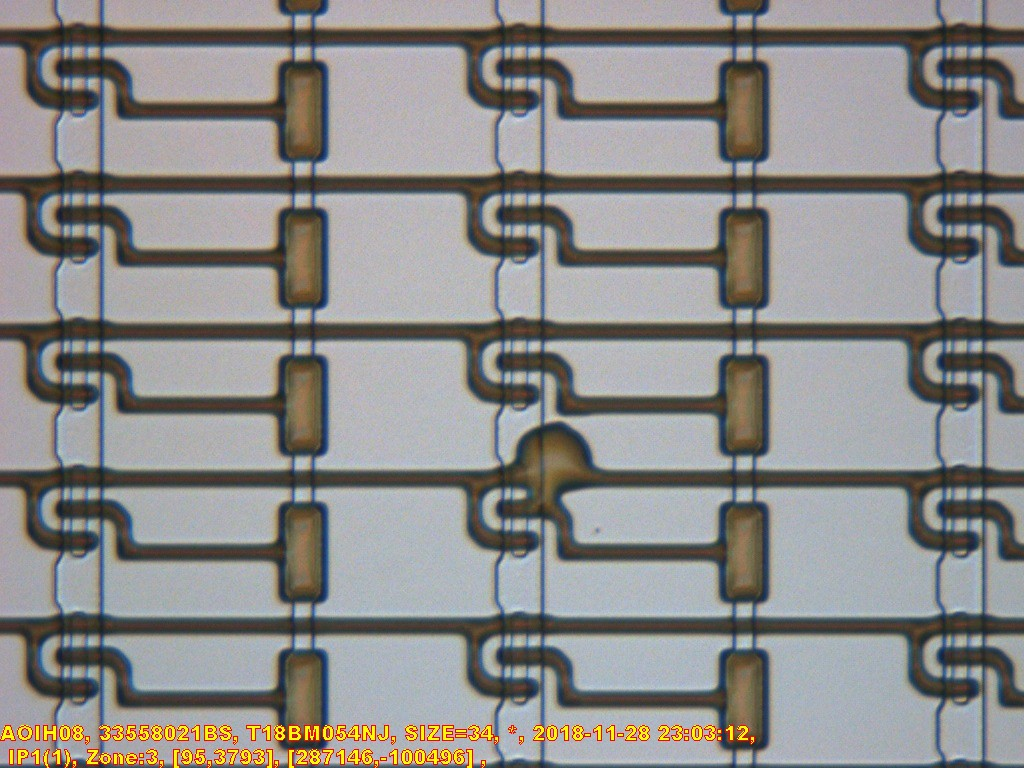PP02-C: (509, 423, 600, 517)
